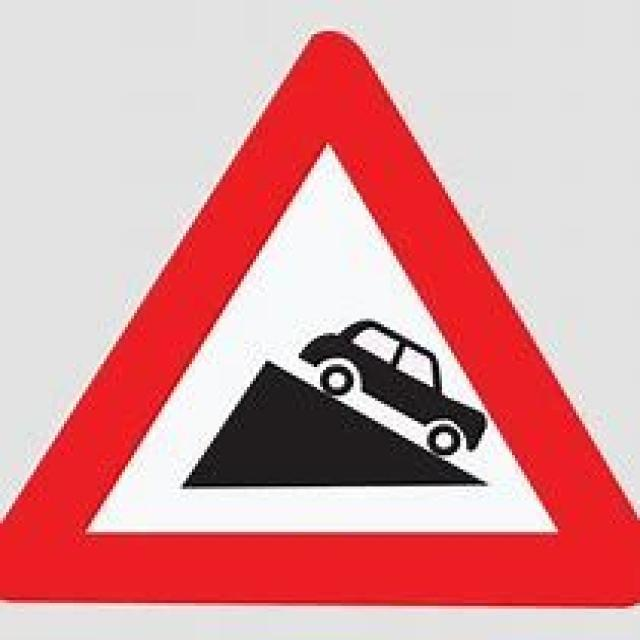steep descent: (35, 67, 602, 585)
